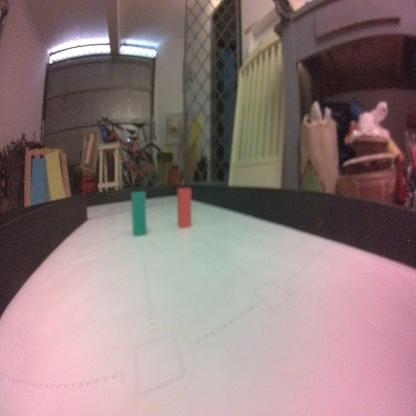green: (130, 188, 147, 237)
red: (176, 185, 193, 229)
